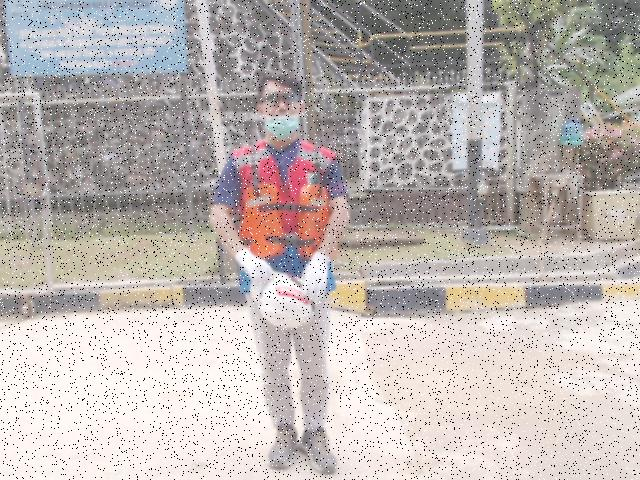glasses: (263, 94, 299, 106)
gloves: (234, 250, 277, 287), (302, 253, 329, 302)
helmet: (248, 266, 319, 333)
mask: (265, 114, 299, 140)
safety-shoes: (300, 428, 338, 475), (267, 424, 298, 470)
vest: (239, 186, 330, 258)
